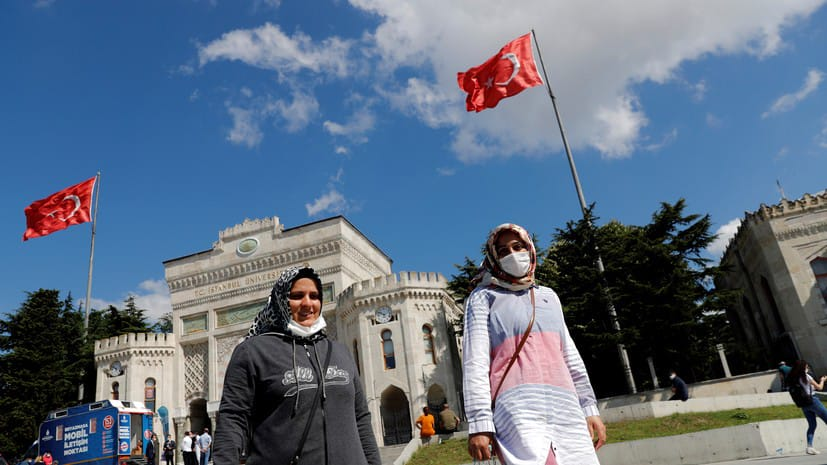with_incorrect_mask: (286, 286, 326, 333)
with_mask: (494, 236, 532, 278)
